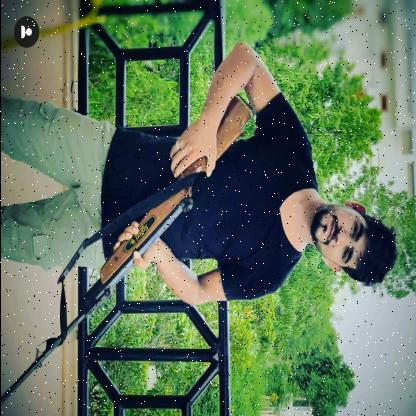rifle: (0, 93, 256, 404)
